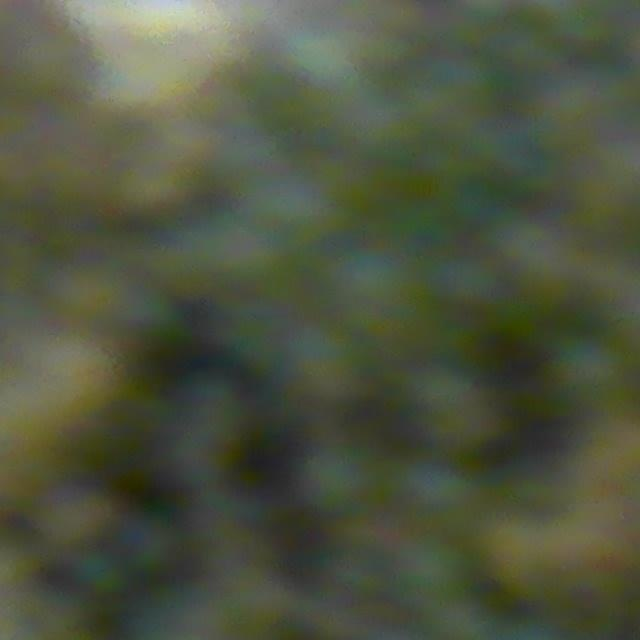SeaGrape: (296, 437, 382, 518), (548, 333, 627, 411), (393, 530, 470, 604), (393, 453, 471, 524)
